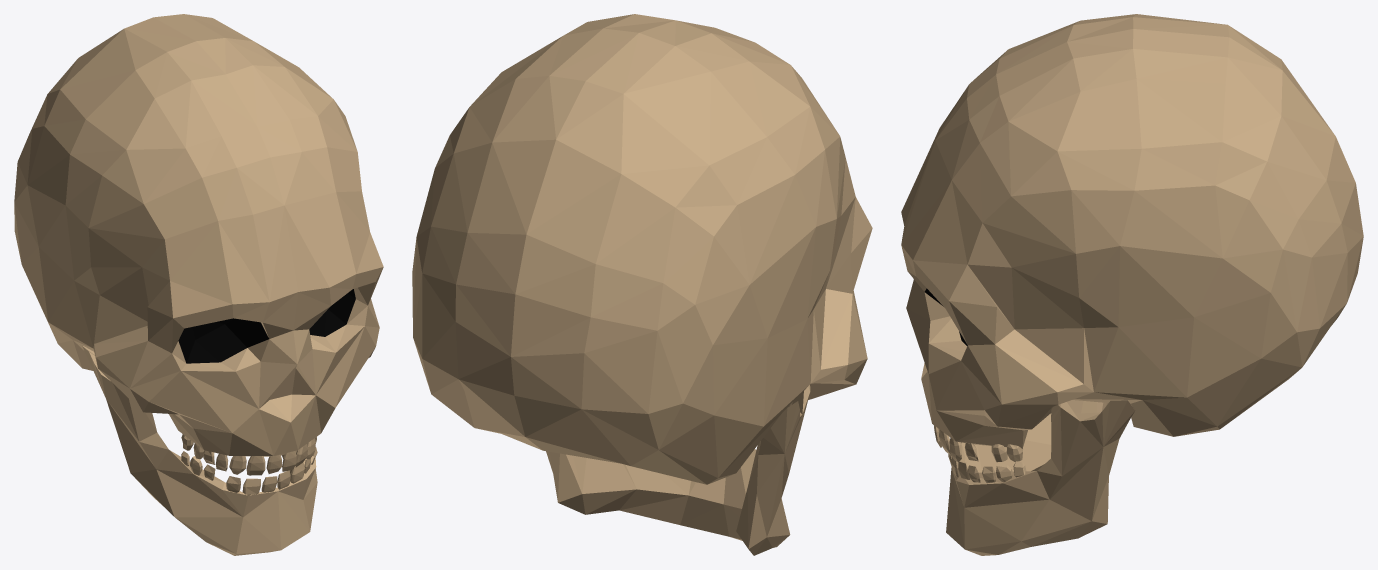
File: Skull.fbx
3 views of the same model, side by side, from view 1: azimuth 30°, elevation 25°; view 2: azimuth 150°, elevation 25°; view 3: azimuth 270°, elevation 25° (orthographic). The views are drawn at different scales.
Visible parts, largest first — view 1: Skull; view 2: Skull; view 3: Skull.
Boxes of the visible parts, bbox=[...] form: Skull: bbox=[14, 14, 383, 555]; Skull: bbox=[412, 14, 872, 555]; Skull: bbox=[901, 14, 1363, 555].
Size of the model in its own units: 17.56 by 28.17 by 22.99.
